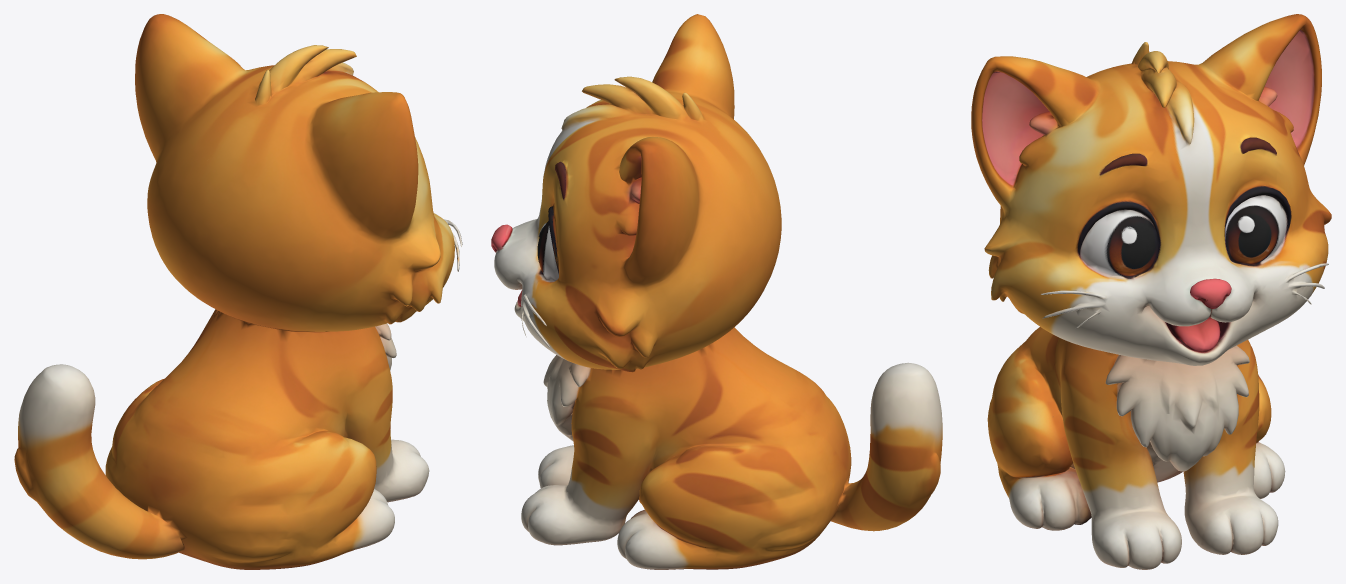
The picture shows the model from 3 angles, left to right: view 1: azimuth 30°, elevation 25°; view 2: azimuth 150°, elevation 25°; view 3: azimuth 270°, elevation 25°; orthographic projection. The views are drawn at different scales.
Visible parts, largest first — view 1: OrangeCatAI_Root_AnimatedRoot; view 2: OrangeCatAI_Root_AnimatedRoot; view 3: OrangeCatAI_Root_AnimatedRoot.
Part boxes in pixels (bbox=[...]): OrangeCatAI_Root_AnimatedRoot: bbox=[14, 14, 462, 569]; OrangeCatAI_Root_AnimatedRoot: bbox=[491, 14, 942, 569]; OrangeCatAI_Root_AnimatedRoot: bbox=[971, 14, 1331, 569].
Size of the model in its own units: 0.9553 by 0.9792 by 0.6806.
Materials: 1 (1 with a texture image).
